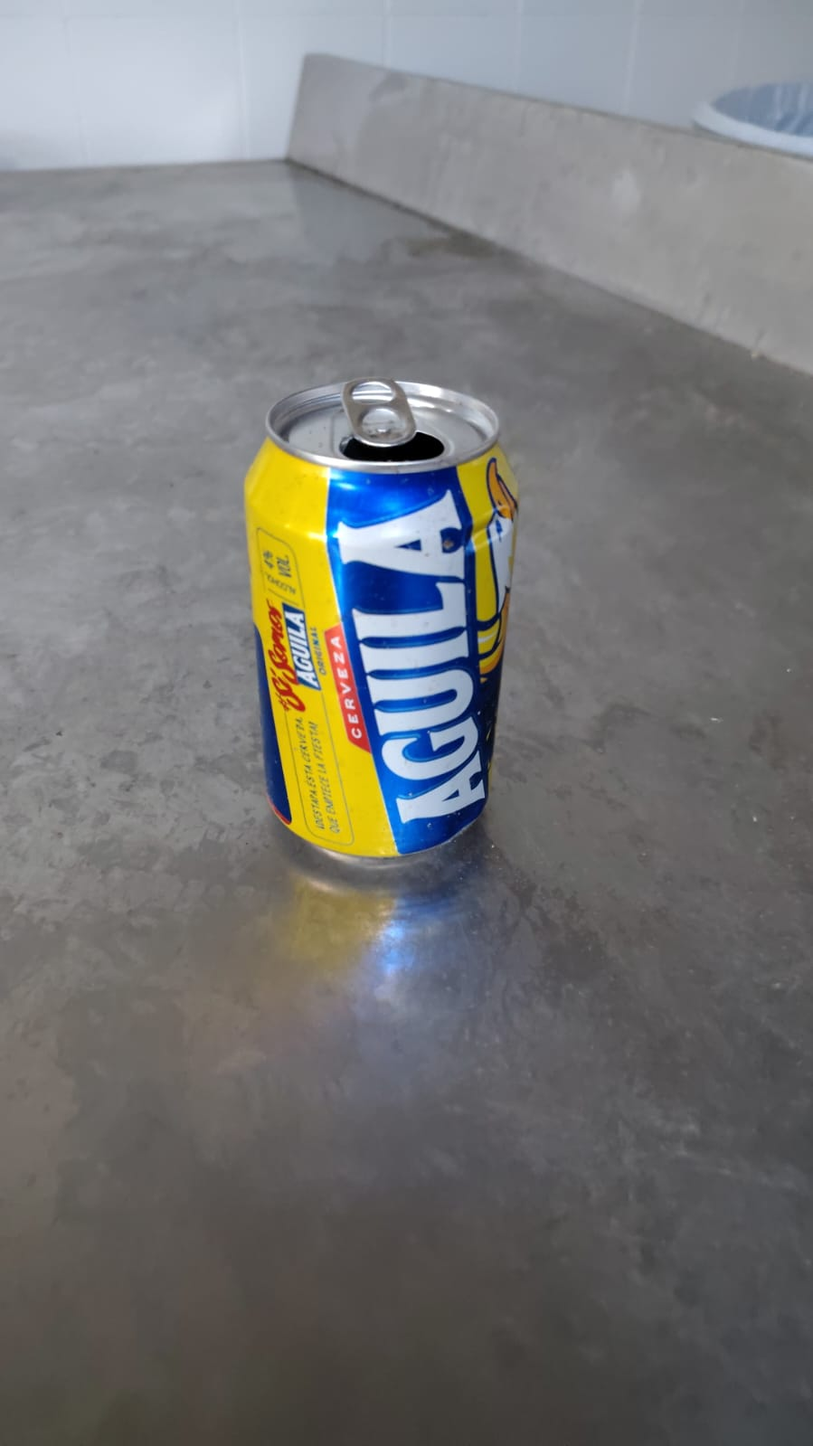Metal: (248, 369, 524, 861)
